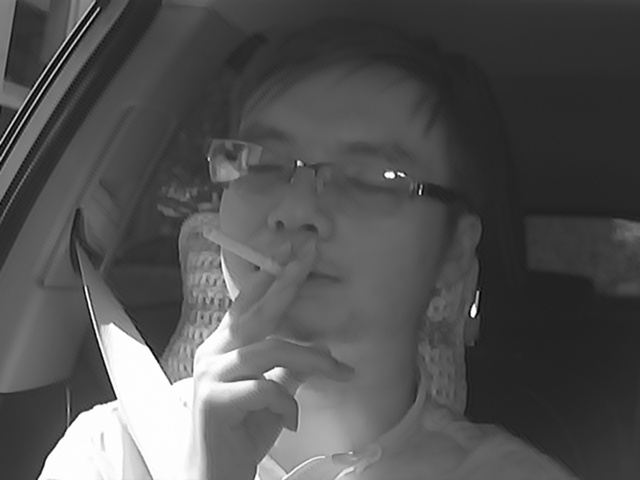hand: (197, 241, 356, 442)
